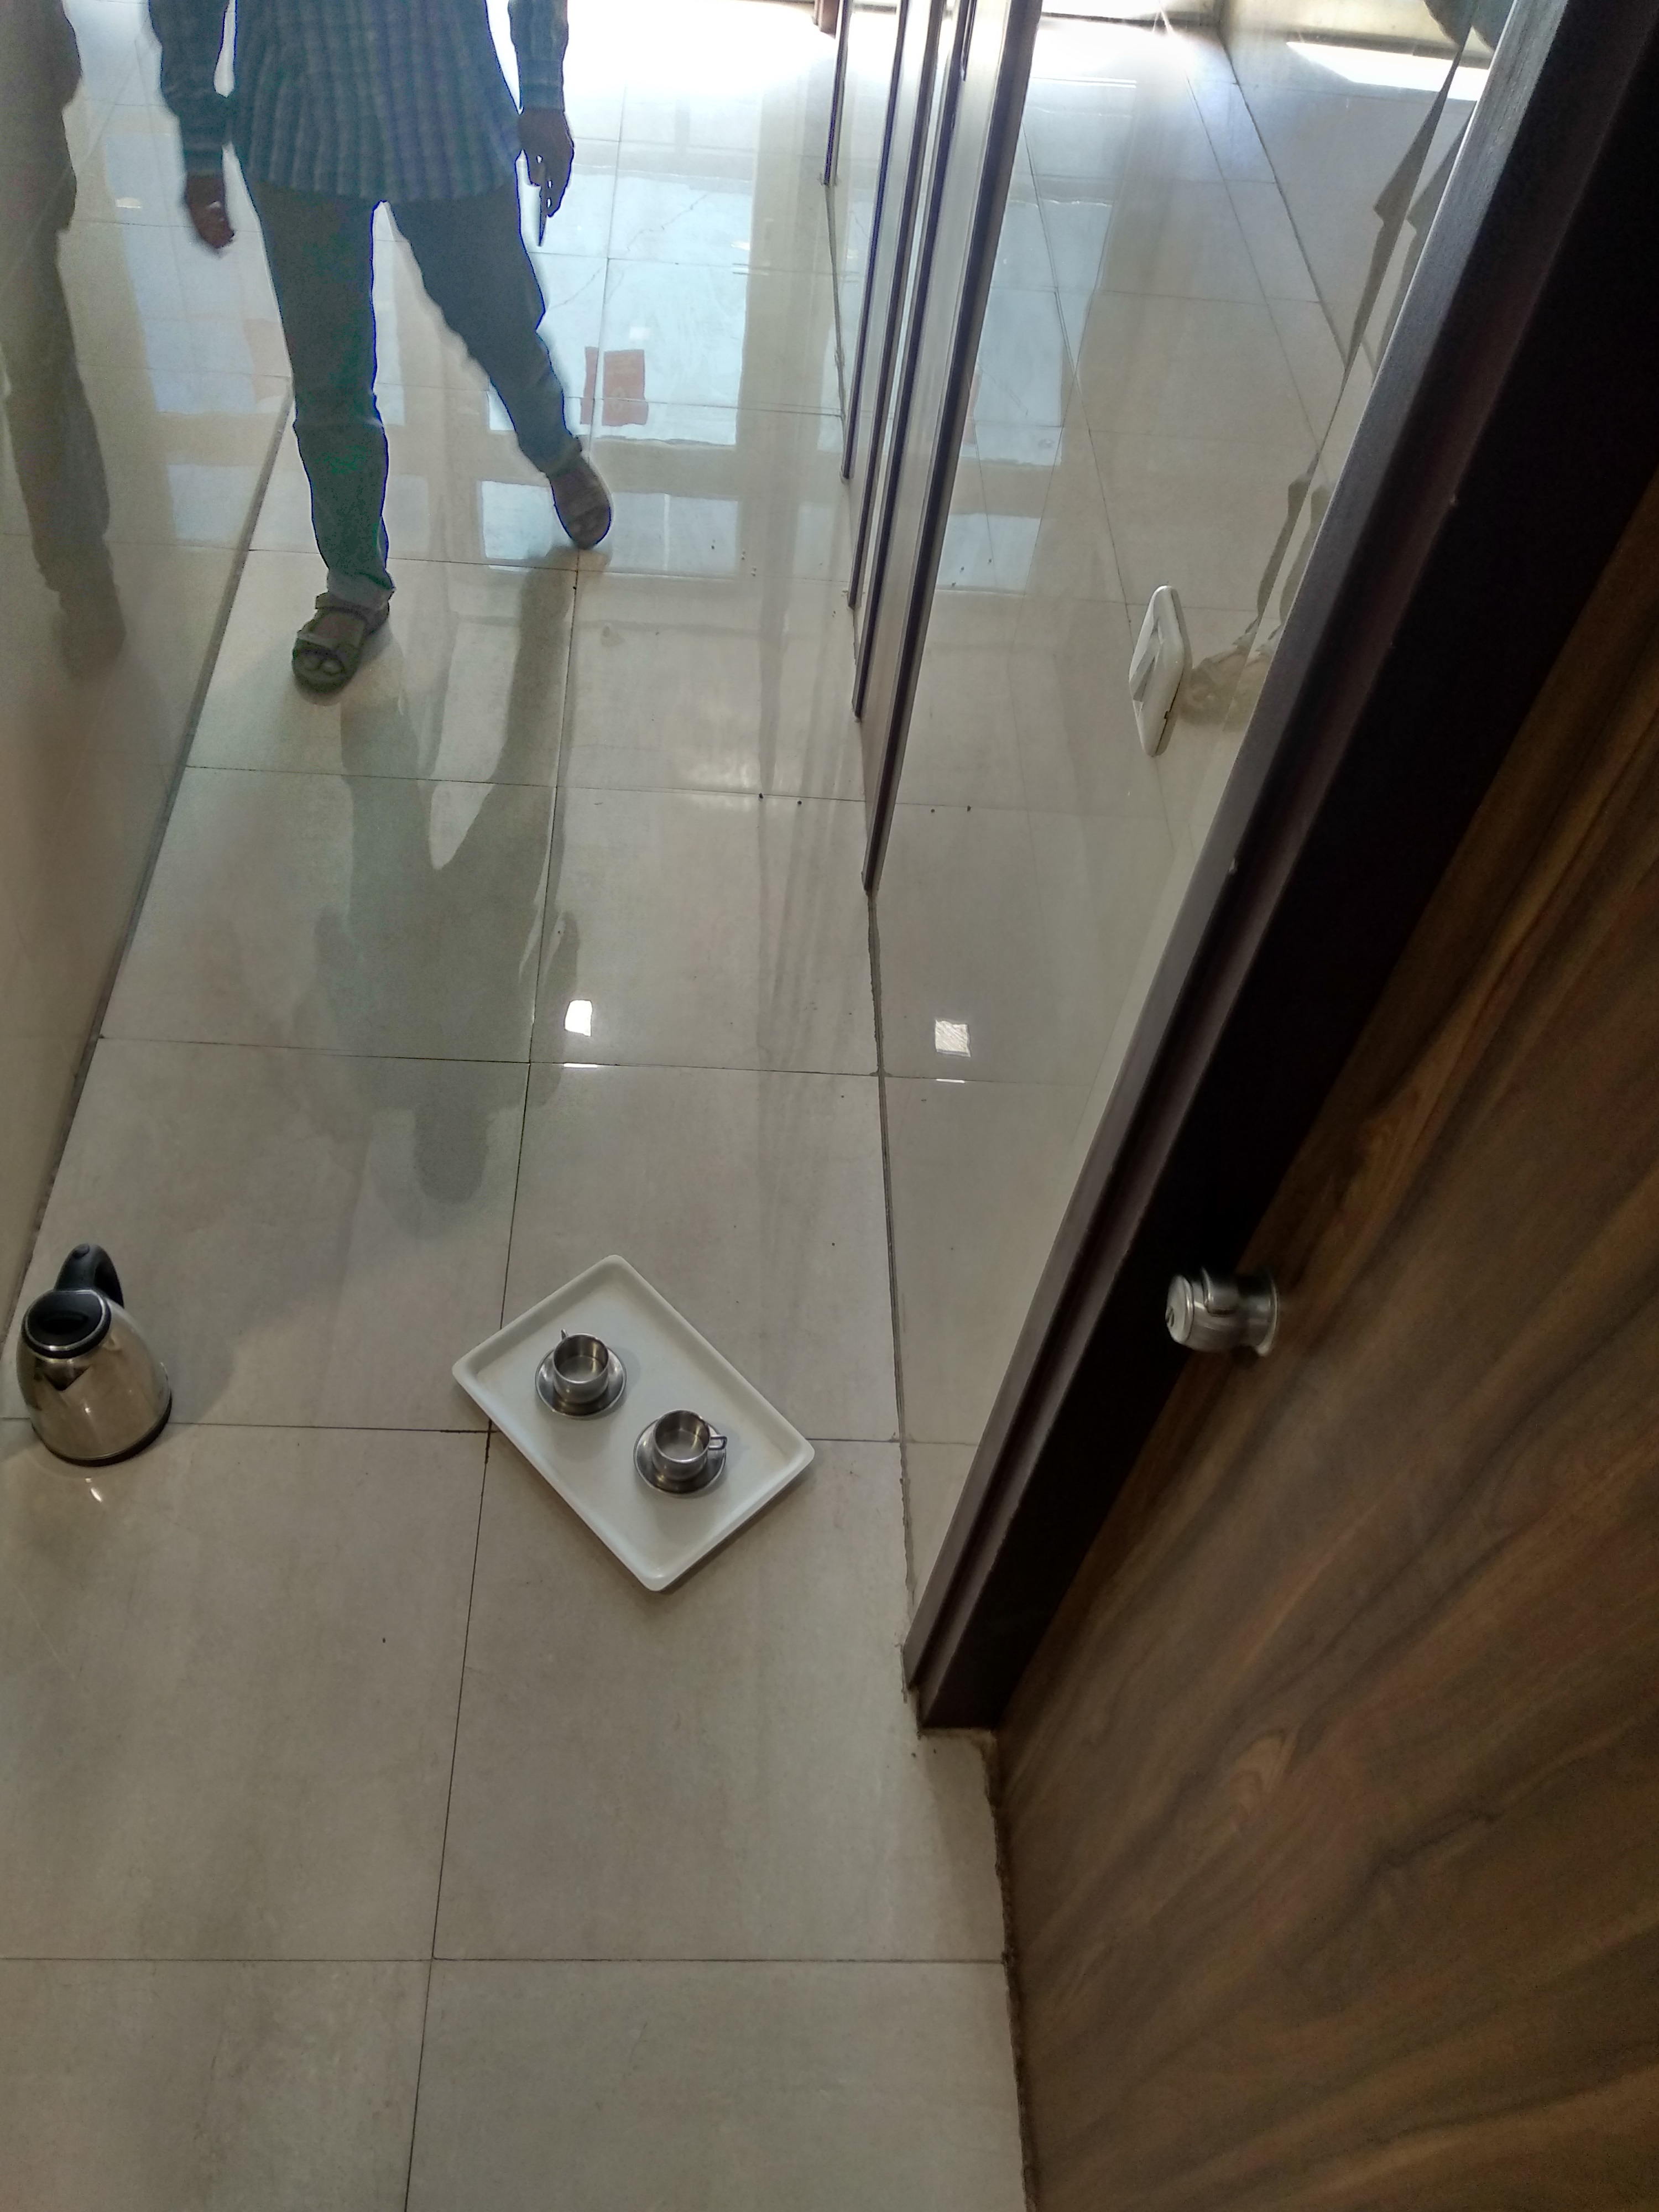CUP: (540, 1331, 619, 1413), (655, 1409, 721, 1484)
FLASK: (40, 1247, 183, 1465)
